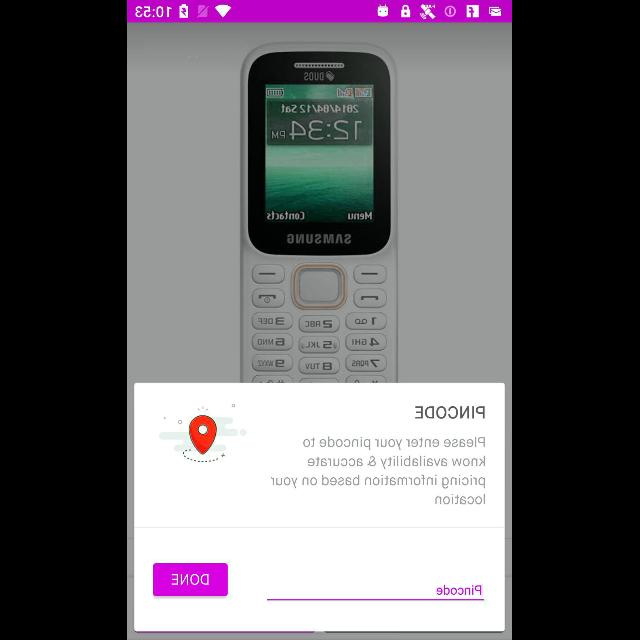image: (240, 42, 398, 382), (159, 403, 247, 462)
input: (268, 584, 484, 600)
panel: (134, 383, 506, 633)
text: (272, 436, 486, 506), (416, 406, 486, 418), (436, 585, 482, 595)
textbutton: (154, 564, 228, 596)
uppertaskbar: (128, 1, 512, 23)
